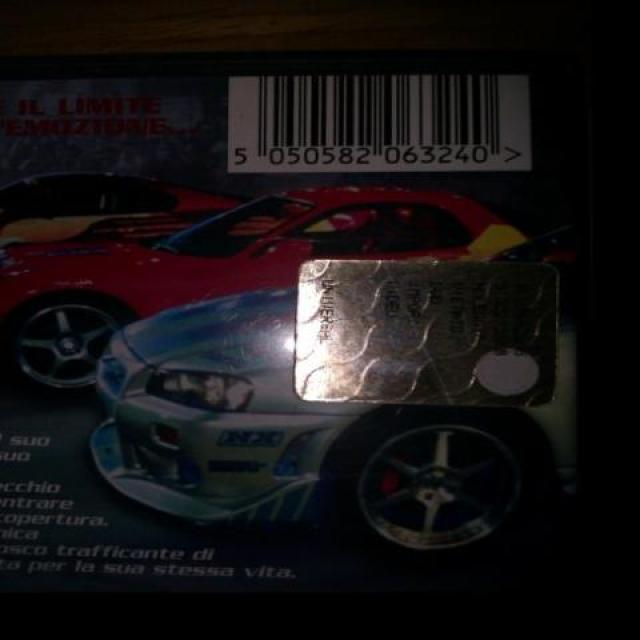Barcode: (227, 68, 536, 172)
